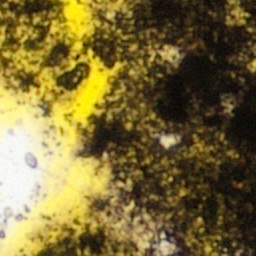cement_matrix: (37, 0, 255, 255), (0, 0, 60, 71), (41, 38, 86, 91), (13, 71, 36, 88), (16, 23, 32, 39), (159, 134, 176, 147), (160, 47, 177, 60)
cracks: (0, 0, 156, 255), (40, 37, 87, 92), (12, 70, 37, 89), (0, 30, 4, 51)
gravel_crushed_stones: (0, 105, 70, 255), (155, 237, 172, 255), (17, 24, 31, 38), (160, 135, 175, 146), (161, 48, 176, 59)
